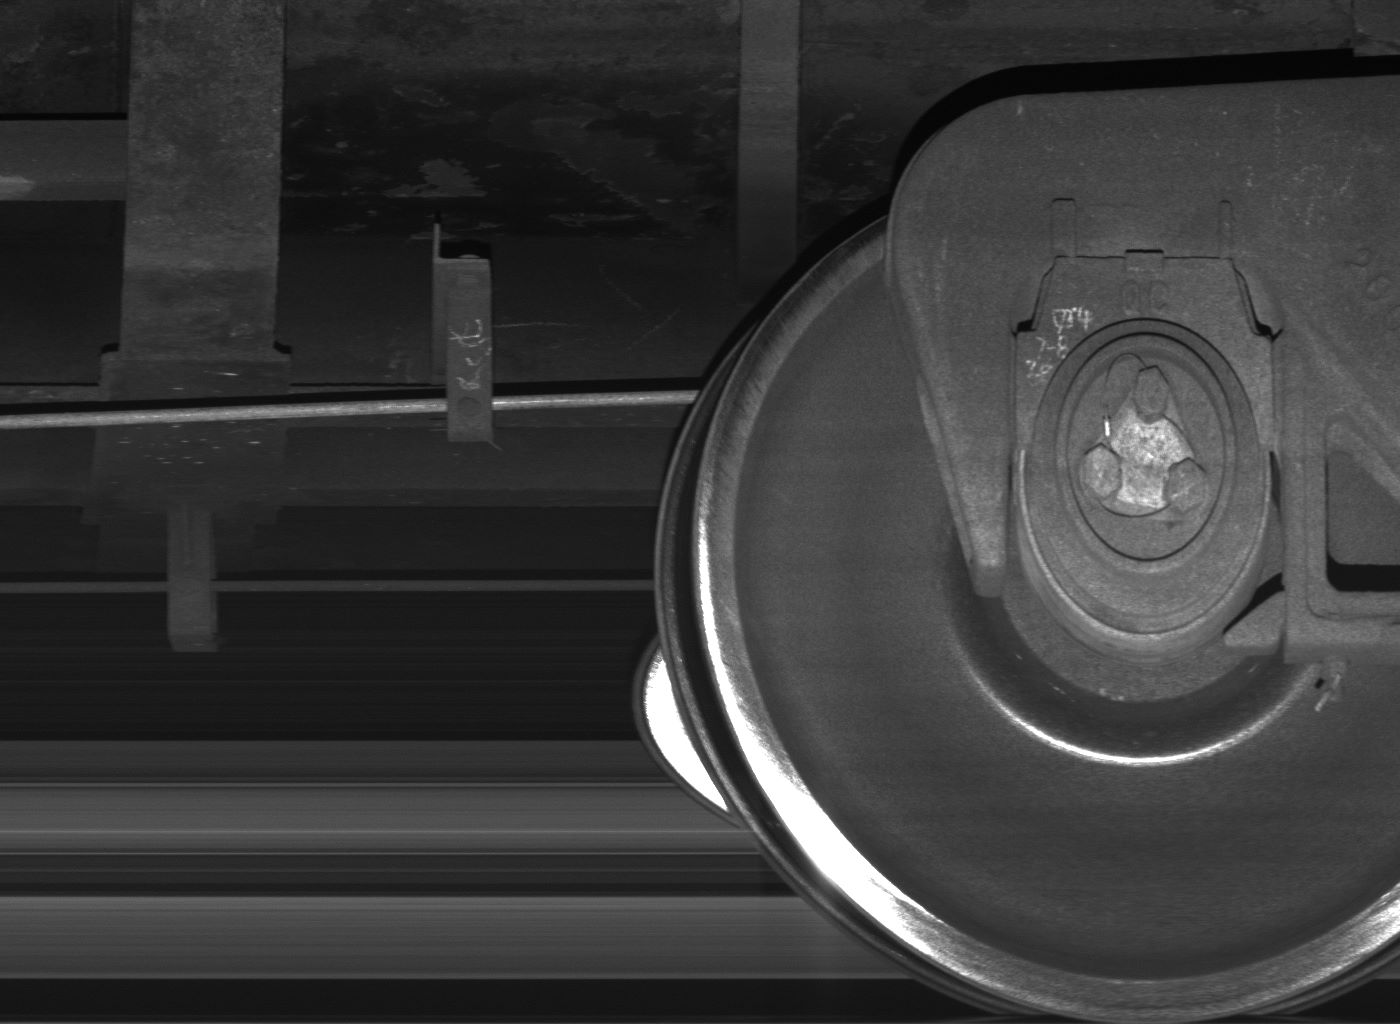normal: (433, 228, 493, 445), (167, 509, 217, 649)
